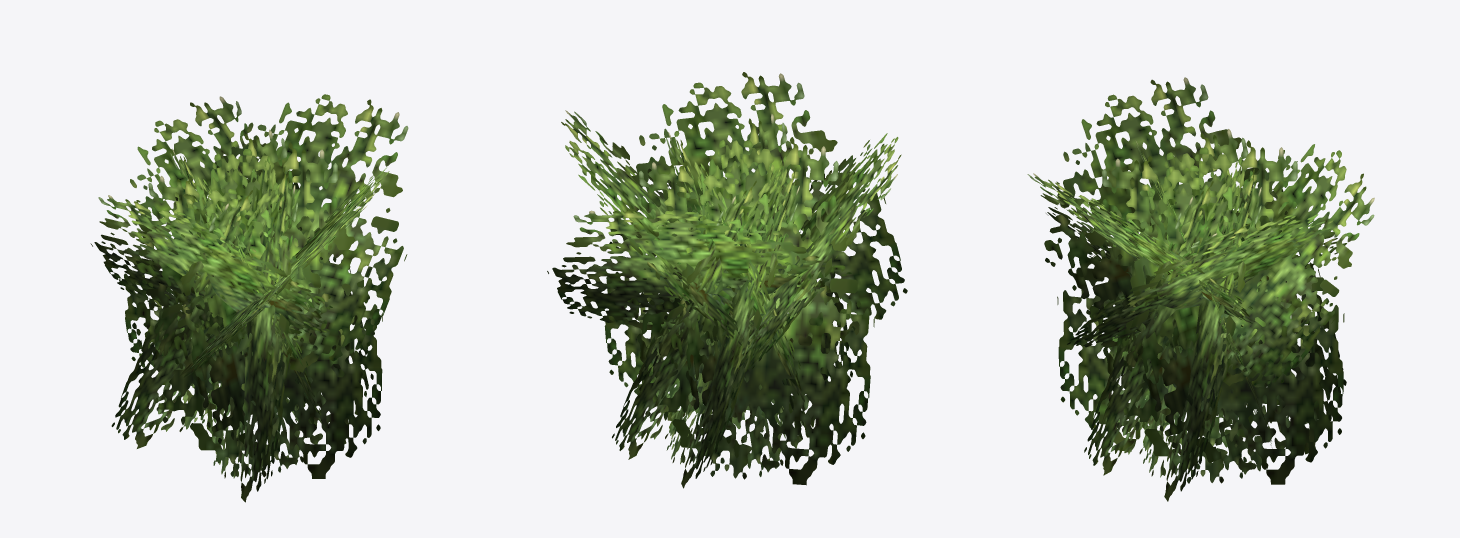
Rendered from shrub-4.glb.
3 views of the same model, side by side, from view 1: azimuth 30°, elevation 25°; view 2: azimuth 150°, elevation 25°; view 3: azimuth 270°, elevation 25° (orthographic). The views are drawn at different scales.
Parts seen in each view (by area): view 1: shrub-4; view 2: shrub-4; view 3: shrub-4.
Part boxes in pixels (bbox=[...]): shrub-4: bbox=[90, 94, 408, 502]; shrub-4: bbox=[547, 72, 907, 488]; shrub-4: bbox=[1027, 77, 1374, 501].
Bounding box in the file's own units: 4.7 × 3.99 × 4.6.
Materials: 1 (1 with a texture image).
